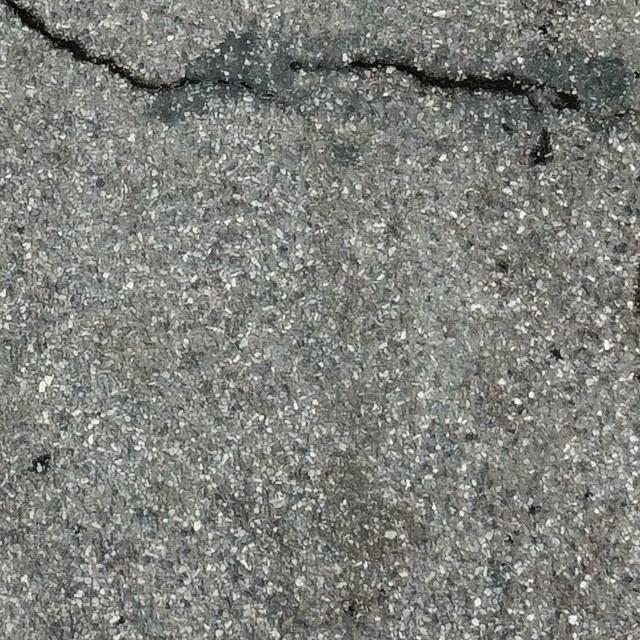TransverseCrack: (1, 1, 264, 98), (291, 60, 583, 112)
